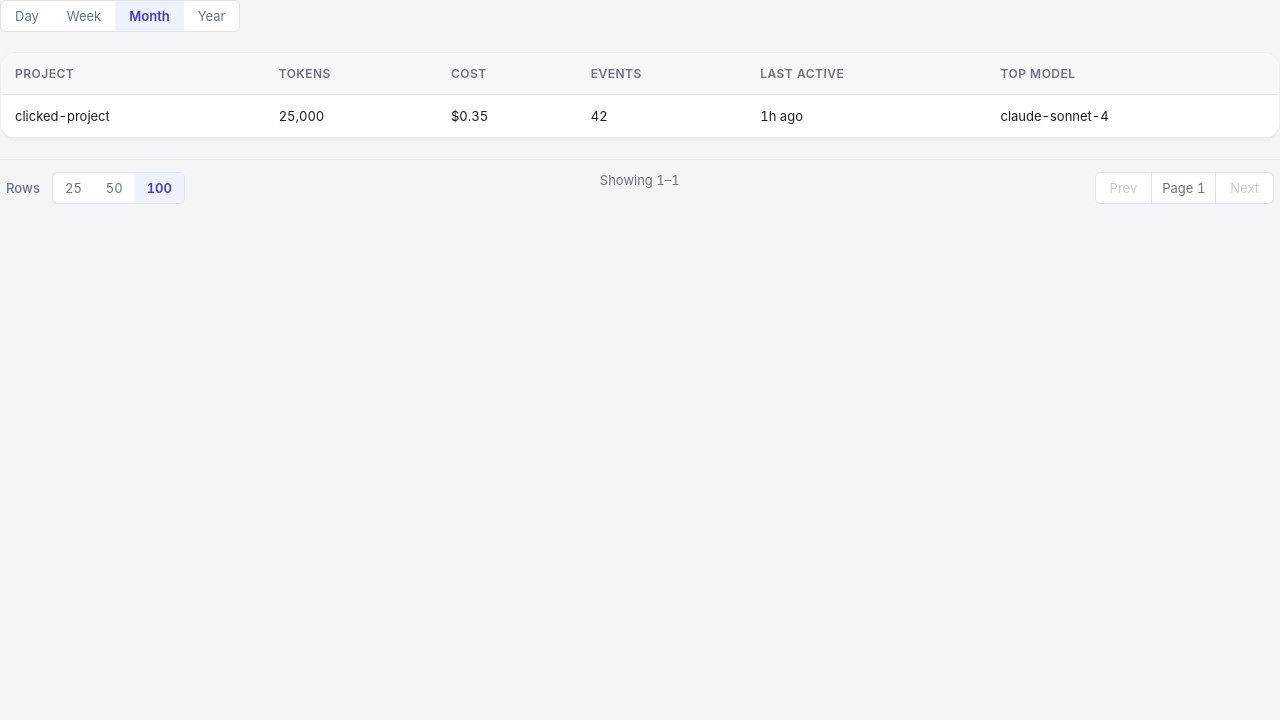
Test: ProjectsPage › opens detail drawer when a row is clicked
Click the text "clicked-project" at (133, 116), box [1,94,265,138]
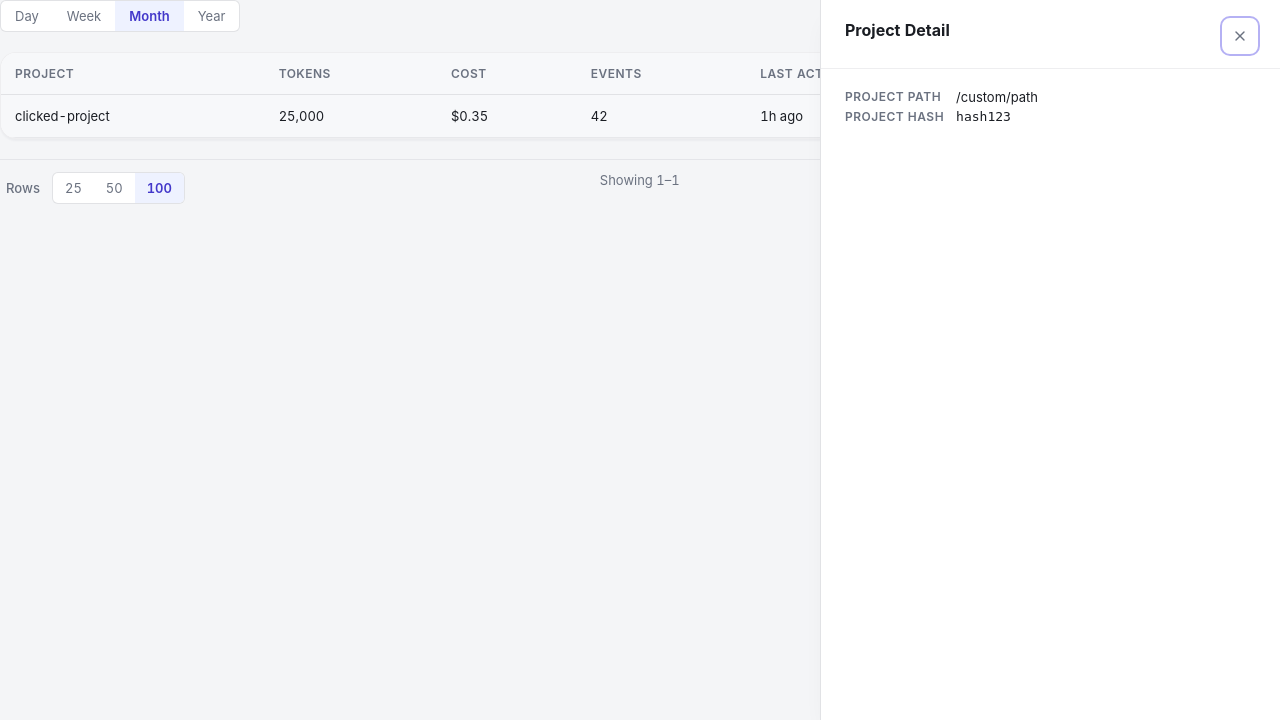
Check: the heading "Project Detail" is shown, box [845,20,950,40]
Check: the text "/custom/path" is shown, box [956,89,1038,105]
Check: the text "hash123" is shown, box [956,109,1011,124]
